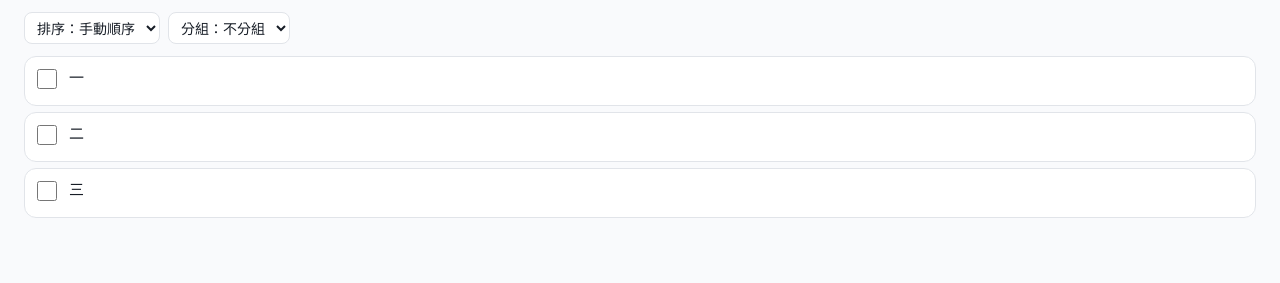
Test: 批次操作與鍵盤導航 › Ctrl + 點擊加入選取，批次列隨即出現
Click the list item with test id "task-row" at (640, 81), box [24, 56, 1256, 106]
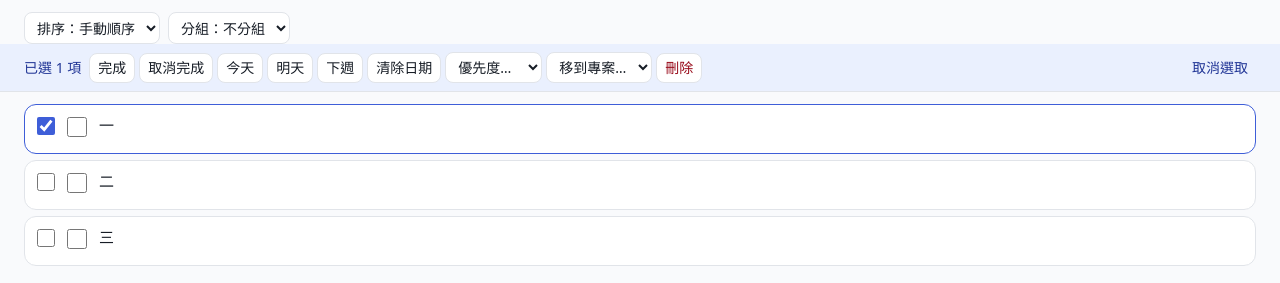
Check: the element named "批次操作" shows "已選 1 項", box [24, 58, 81, 76]
